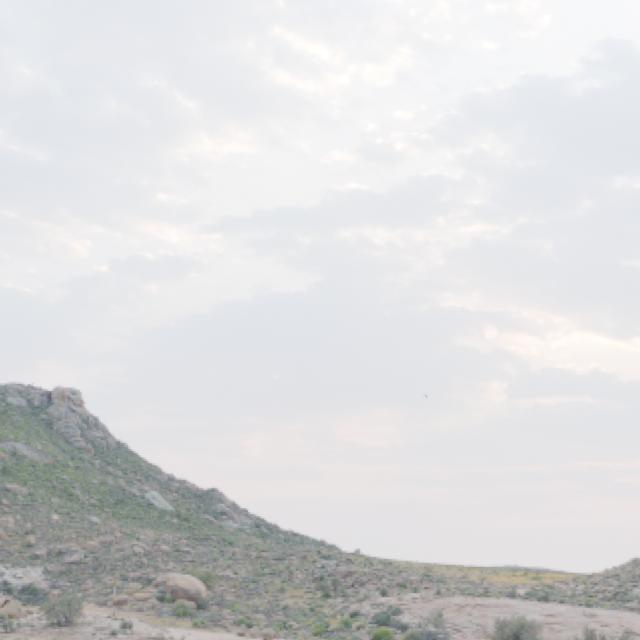Airaplan: (423, 393, 429, 399)
